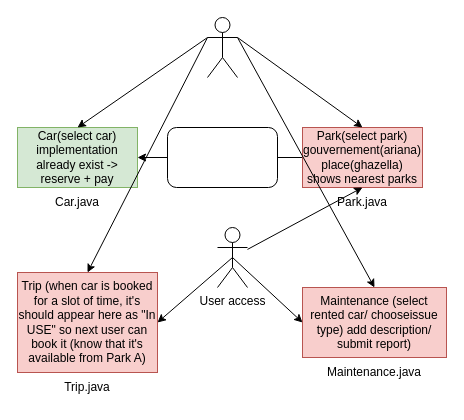
Some shapes in this 464 by 420 pixel diagram are drawn without their labels. Each missing label, with the centre of its shape:
"Admin" goes at (x=222, y=47).
"Button (after select the park redirect to cars exists within that park)" goes at (x=222, y=157).
